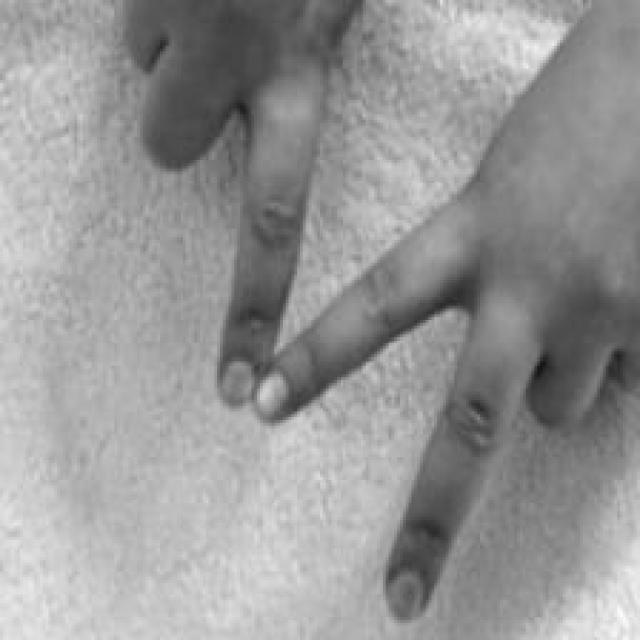N: (124, 2, 640, 626)
